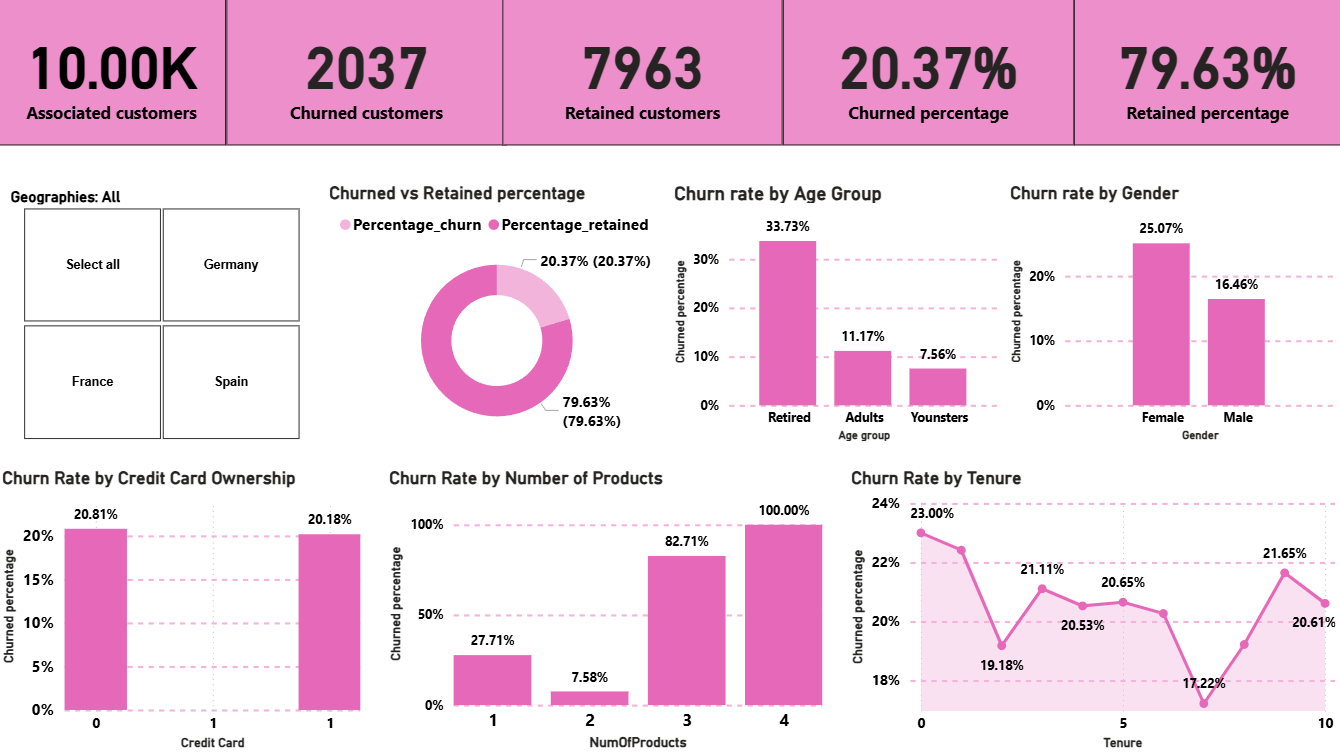

This screenshot's page, from the dashboard's own definition file:
{"tool":"powerbi","page":{"name":"Page 2","canvas":[1280,720],"ordinal":0},"visuals":[{"type":"card","fields":{"Values":["CountNonNull(processed_data.CustomerId)"]},"box":[0,0,218,139.3],"z":0},{"type":"card","fields":{"Values":["processed_data.Cust_Churn"]},"box":[218,0,266.5,139.3],"z":1000},{"type":"card","fields":{"Values":["processed_data.Cust_retained"]},"box":[481.5,0,266.5,139.3],"z":2000},{"type":"card","fields":{"Values":["processed_data.Percentage_churn"]},"box":[748,0,277.1,139.3],"z":3000},{"type":"card","fields":{"Values":["processed_data.Percentage_returned"]},"box":[1025.1,0,254.4,139.3],"z":4000},{"type":"donutChart","title":"Churned vs Retained percentage","fields":{"Y":["processed_data.Percentage_churn","processed_data.Percentage_retained"]},"box":[311.9,174.1,328.6,251.4],"z":5000},{"type":"columnChart","title":"Churn rate by Age Group","fields":{"Category":["processed_data.Age_Group"],"Y":["processed_data.Percentage_churn"]},"box":[640.5,174.1,319.5,251.4],"z":6000},{"type":"columnChart","title":"Churn rate by Gender","fields":{"Category":["processed_data.Gender"],"Y":["processed_data.Percentage_churn"]},"box":[960,174.1,319.5,251.4],"z":7000},{"type":"columnChart","title":"Churn Rate by Credit Card Ownership","fields":{"Category":["processed_data.HasCrCard"],"Y":["processed_data.Percentage_churn"]},"box":[0,445.2,351.3,274.1],"z":8000},{"type":"columnChart","title":"Churn Rate by Number of Products","fields":{"Category":["processed_data.NumOfProducts"],"Y":["processed_data.Percentage_churn"]},"box":[368,445.2,422.5,274.1],"z":9000},{"type":"lineChart","title":"Churn Rate by Tenure","fields":{"Y":["processed_data.Percentage_churn"],"Category":["processed_data.Tenure"]},"box":[808.6,445.2,470.9,274.1],"z":10000},{"type":"slicer","fields":{"Values":["processed_data.Geography"]},"box":[0,174.1,311.9,251.4],"z":11000}]}

Visuals, with their boxes in screenshot pixels (x1, y1, x2, y2), scaled from the page's 1280x720 canvas onto the 1340x753 screenshot:
card - CountNonNull(processed_data.CustomerId): [left=0, top=0, right=228, bottom=146]
card - processed_data.Cust_Churn: [left=228, top=0, right=507, bottom=146]
card - processed_data.Cust_retained: [left=504, top=0, right=783, bottom=146]
card - processed_data.Percentage_churn: [left=783, top=0, right=1073, bottom=146]
card - processed_data.Percentage_returned: [left=1073, top=0, right=1339, bottom=146]
"Churned vs Retained percentage" donutChart: [left=327, top=182, right=671, bottom=445]
"Churn rate by Age Group" columnChart: [left=671, top=182, right=1005, bottom=445]
"Churn rate by Gender" columnChart: [left=1005, top=182, right=1339, bottom=445]
"Churn Rate by Credit Card Ownership" columnChart: [left=0, top=466, right=368, bottom=752]
"Churn Rate by Number of Products" columnChart: [left=385, top=466, right=828, bottom=752]
"Churn Rate by Tenure" lineChart: [left=847, top=466, right=1339, bottom=752]
slicer - processed_data.Geography: [left=0, top=182, right=327, bottom=445]
